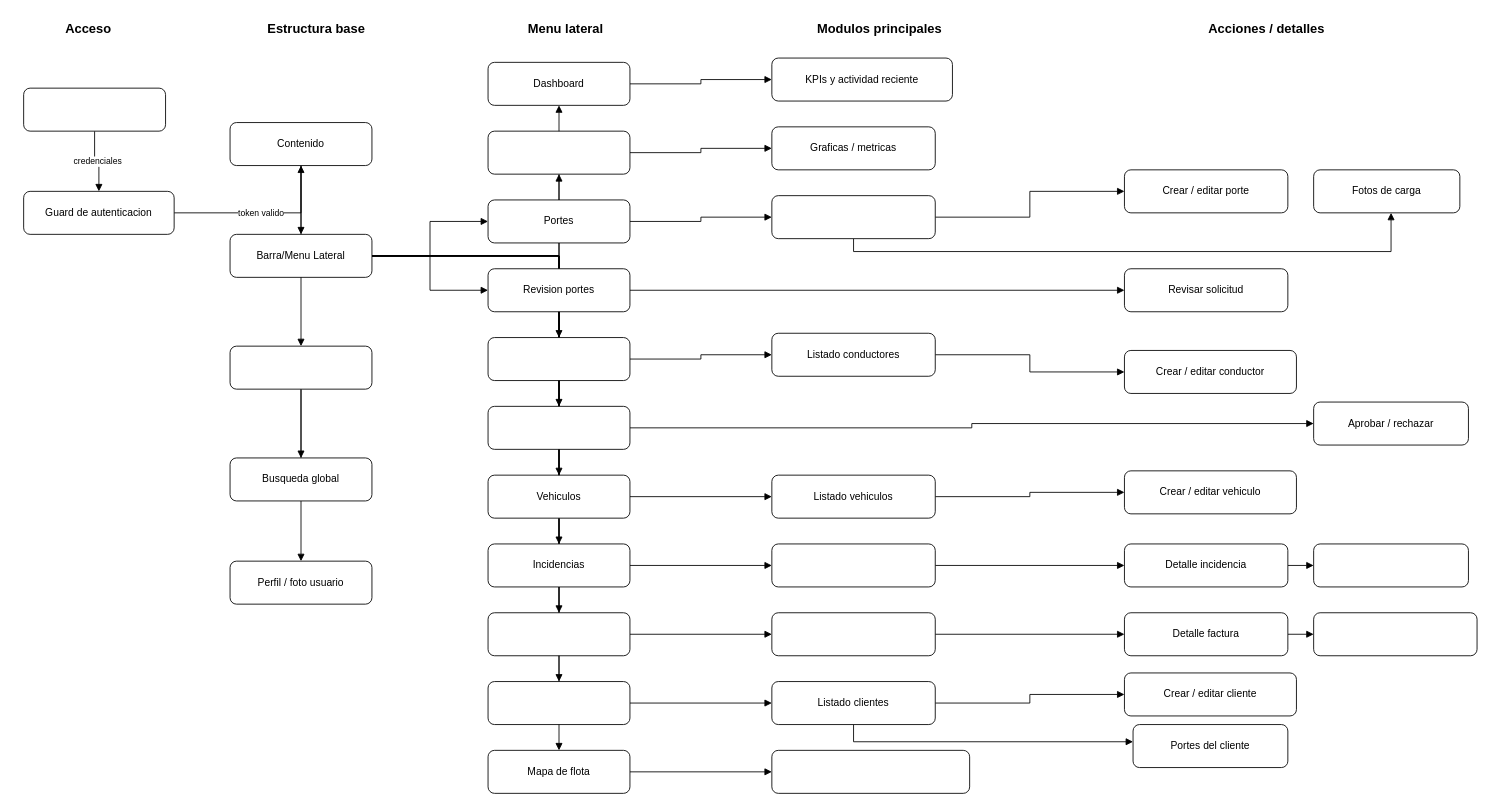
Image size: 1492x808. Some labels were removed from this diagram. The centre of each missing label's shape, as x and y in pixels:
Aprobaciones: the point at 558,427
Barra Superior: the point at 300,367
Clientes: the point at 558,703
Conductores: the point at 558,359
Estadisticas: the point at 558,152
Facturas: the point at 558,634
Listado de portes: the point at 853,217
Listado facturas: the point at 853,634
Listado incidencias: the point at 853,565
Login: the point at 94,109
Mapa con conductores y portes: the point at 870,771
Marcar pagada / descargar PDF: the point at 1395,634
Resolver incidencia: the point at 1390,565
